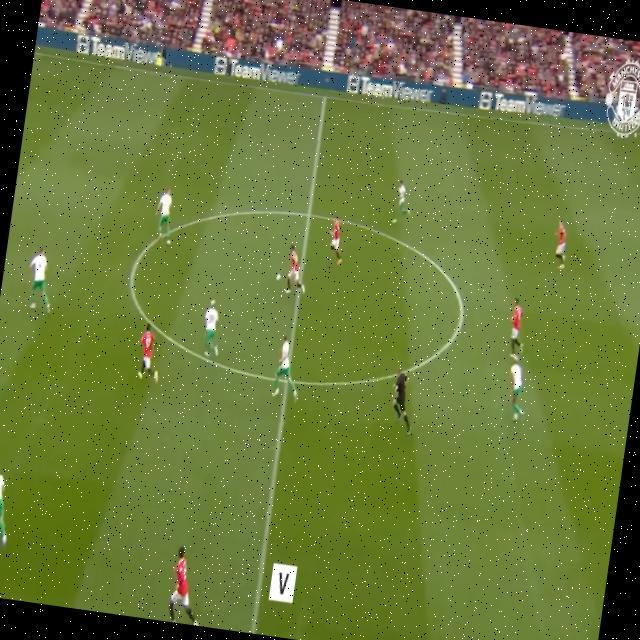TeamViewer: (346, 73, 434, 107), (75, 35, 165, 68), (213, 55, 302, 88), (479, 90, 566, 121)
